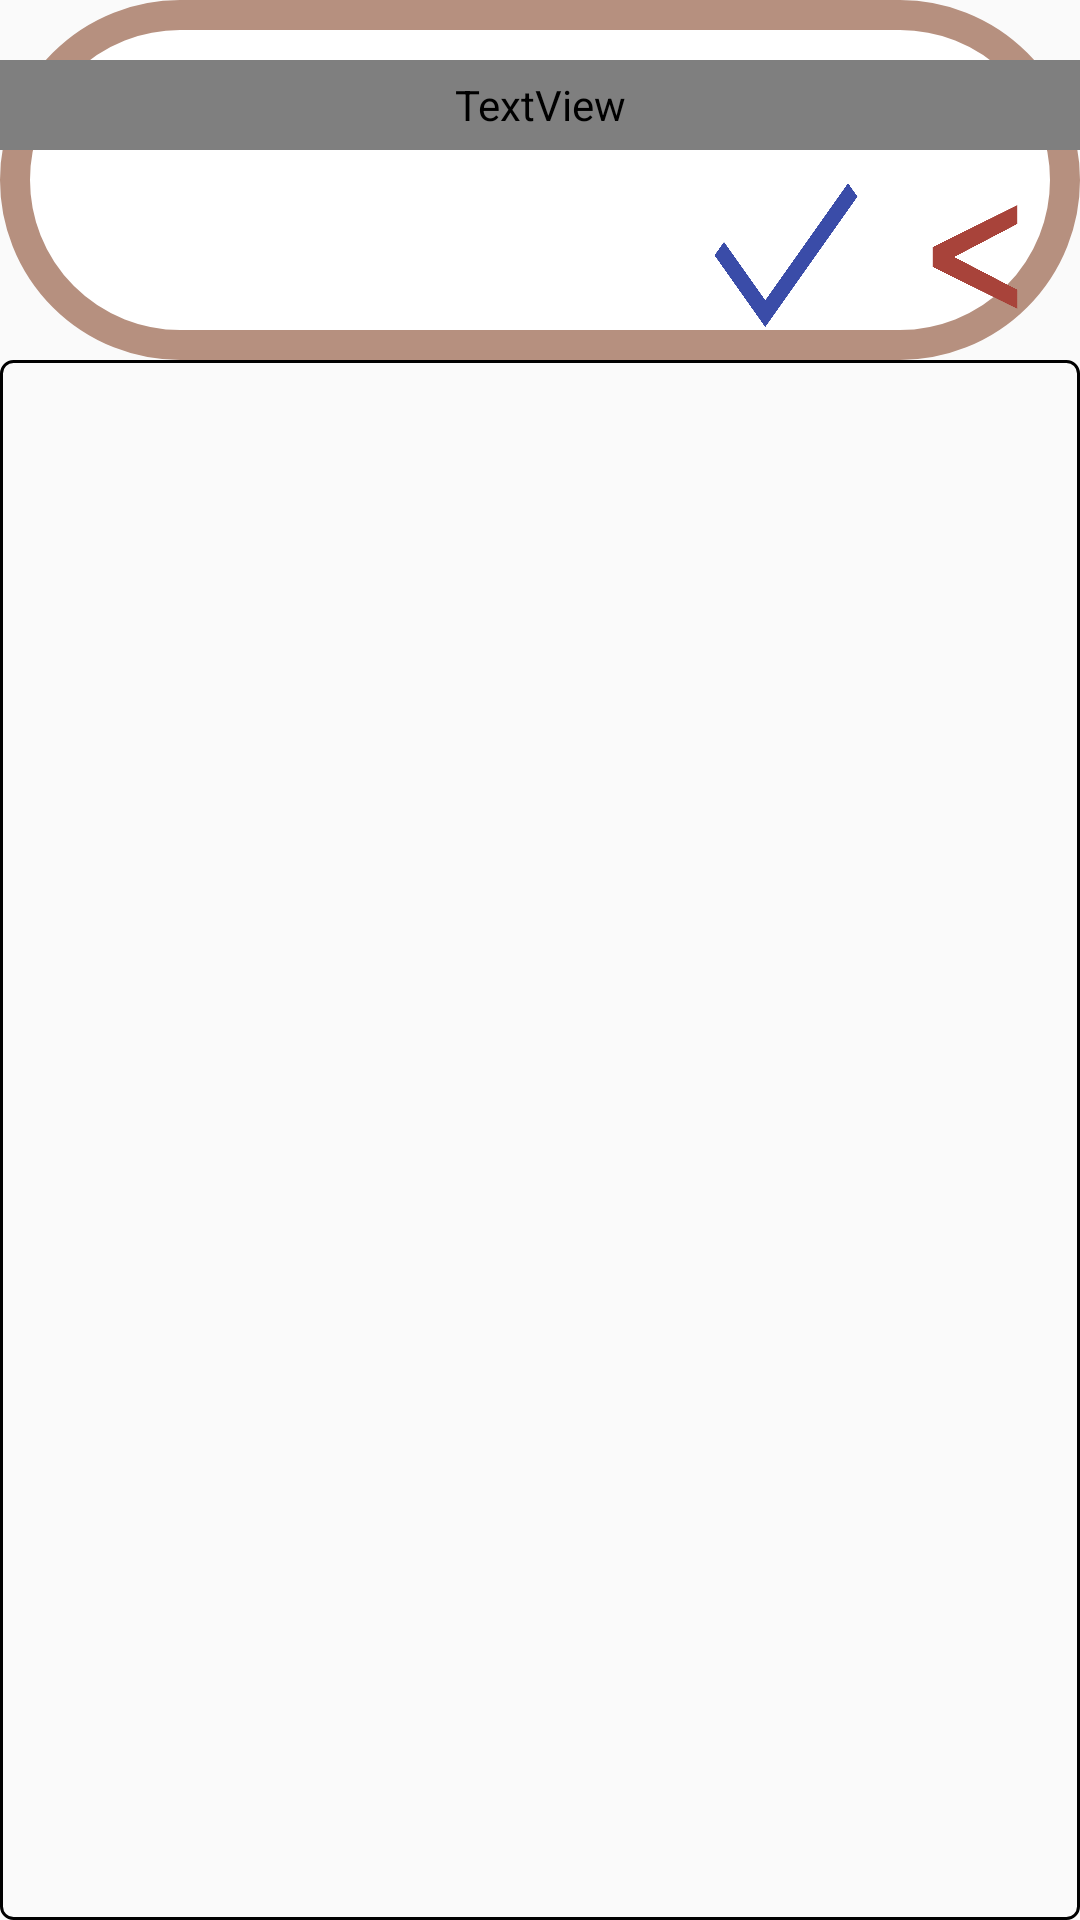

Named icons in this screenshot (1080*1920) and their centers, [x,y]:
save: [786,255]
